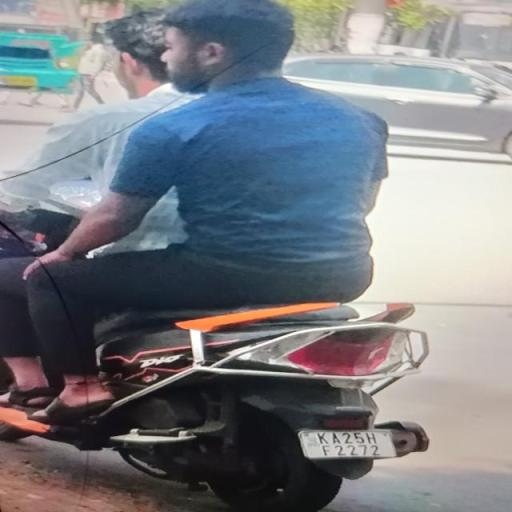bike: (3, 1, 434, 508)
numberplate: (302, 427, 398, 455)
withouthelmet: (168, 2, 291, 83), (112, 14, 178, 97)
